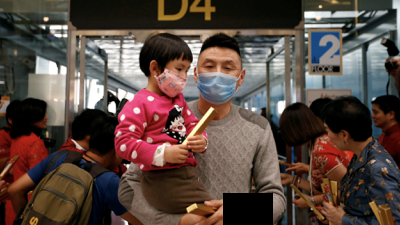with_mask: (198, 56, 241, 104), (158, 63, 189, 99)
without_mask: (372, 108, 390, 128), (35, 109, 50, 130)
